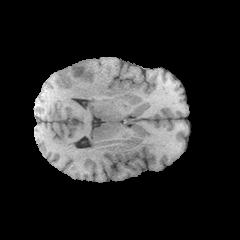glioma: (59, 61, 106, 99)
